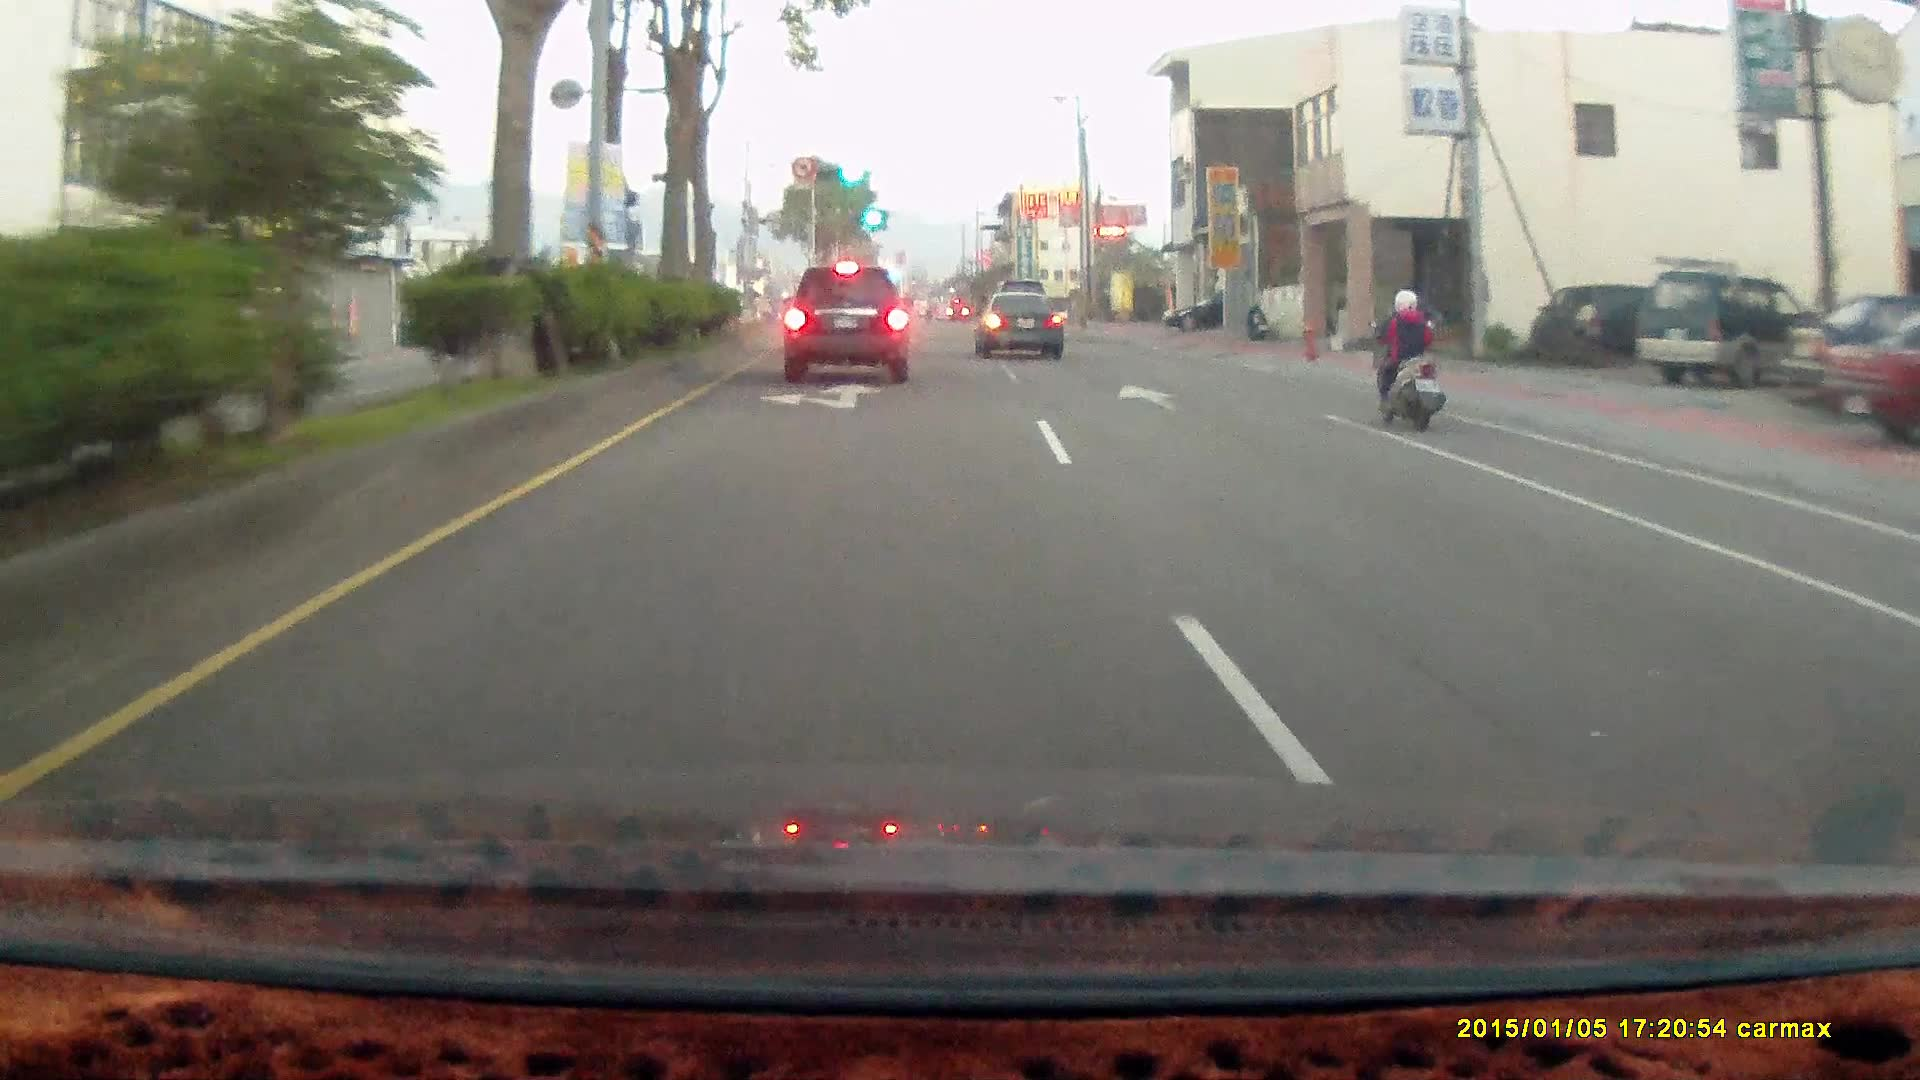rider: (1357, 274, 1461, 442), (1367, 286, 1445, 430)
vehicle: (1633, 269, 1826, 388), (1638, 272, 1820, 392), (785, 253, 916, 376), (780, 263, 908, 381), (1821, 312, 1920, 446), (1531, 282, 1654, 362), (973, 289, 1068, 360), (975, 288, 1062, 354), (1162, 290, 1262, 331), (1161, 289, 1226, 336)
